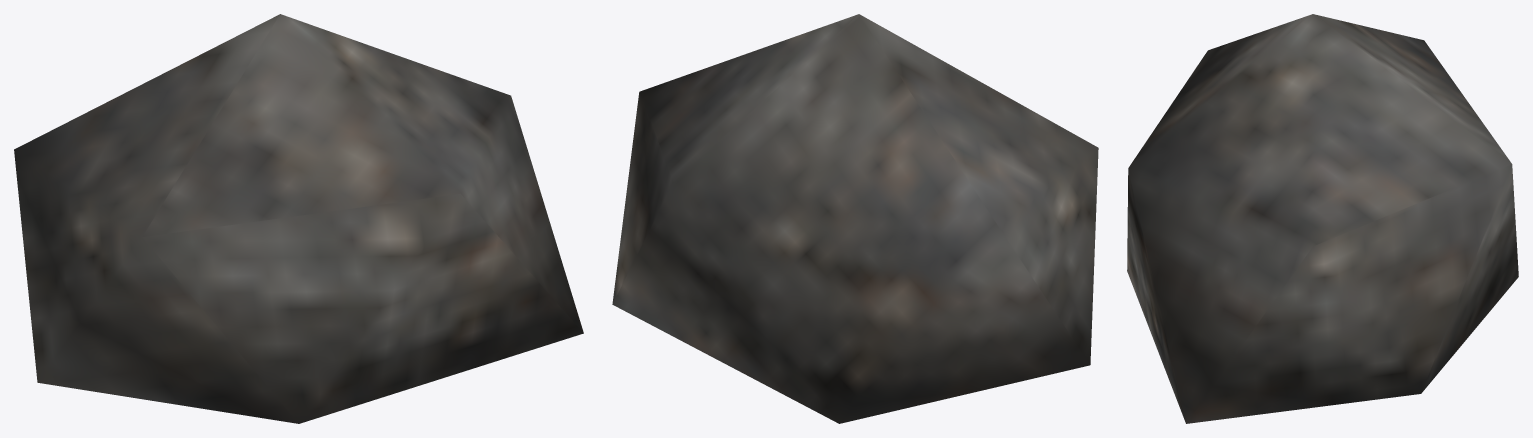
The model's file is SM_HarvestRock_Chip01.fbx.
3 renders of one model, left to right at view 1: azimuth 30°, elevation 25°; view 2: azimuth 150°, elevation 25°; view 3: azimuth 270°, elevation 25°, orthographic. The views are drawn at different scales.
Visible parts, largest first — view 1: SM_HarvestRock_Chip01; view 2: SM_HarvestRock_Chip01; view 3: SM_HarvestRock_Chip01.
Part boxes in pixels (x1=…): SM_HarvestRock_Chip01: x1=14, y1=14, x2=583, y2=423; SM_HarvestRock_Chip01: x1=612, y1=14, x2=1098, y2=423; SM_HarvestRock_Chip01: x1=1127, y1=14, x2=1518, y2=423.
Size of the model in its own units: 22.54 by 17.22 by 18.24.
Materials: 1 (1 with a texture image).
